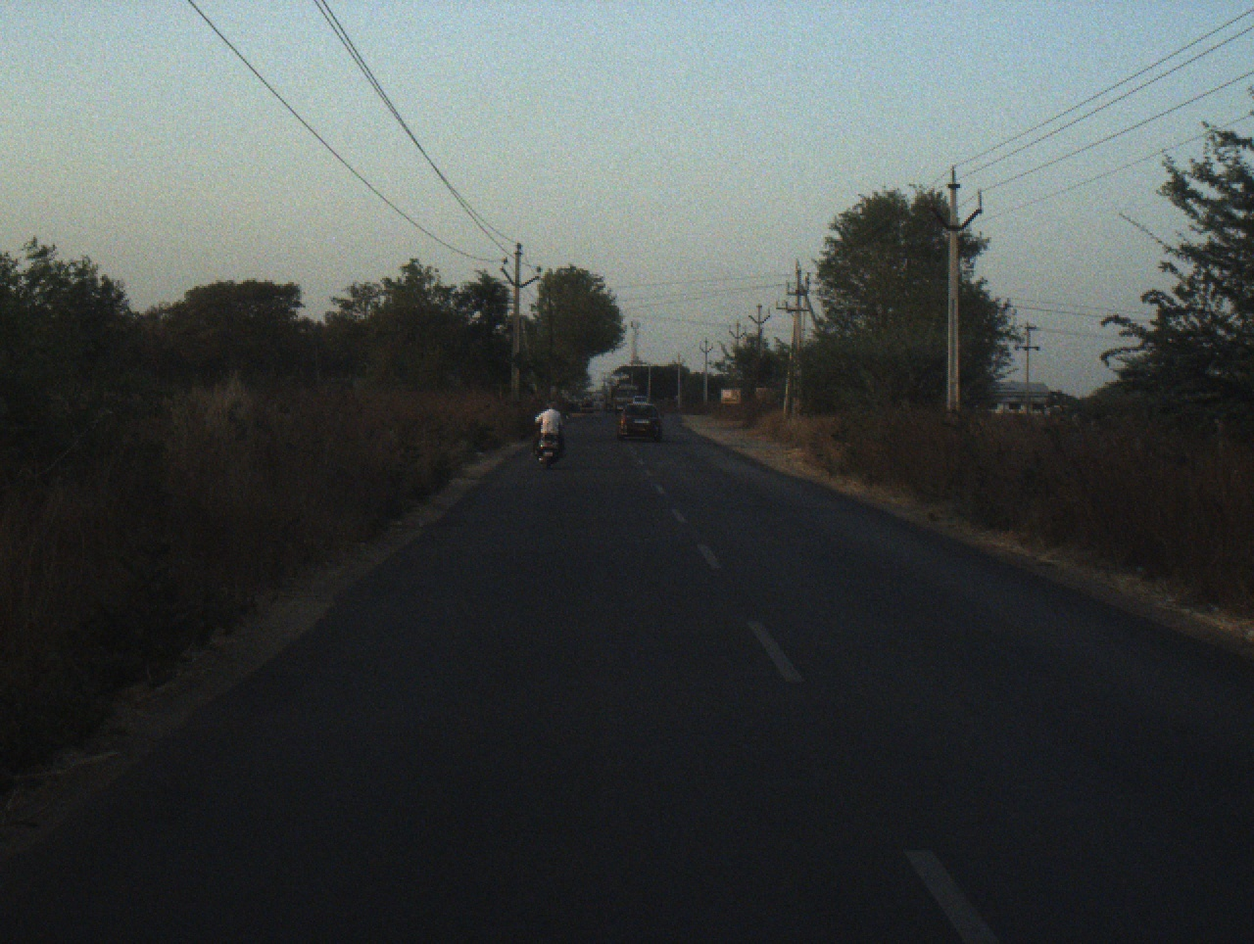autorickshaw: (578, 397, 596, 413)
car: (617, 401, 663, 442), (632, 394, 650, 404)
motorcycle: (531, 412, 569, 469)
rider: (530, 401, 568, 454), (536, 403, 552, 414)
truck: (609, 382, 638, 412)
